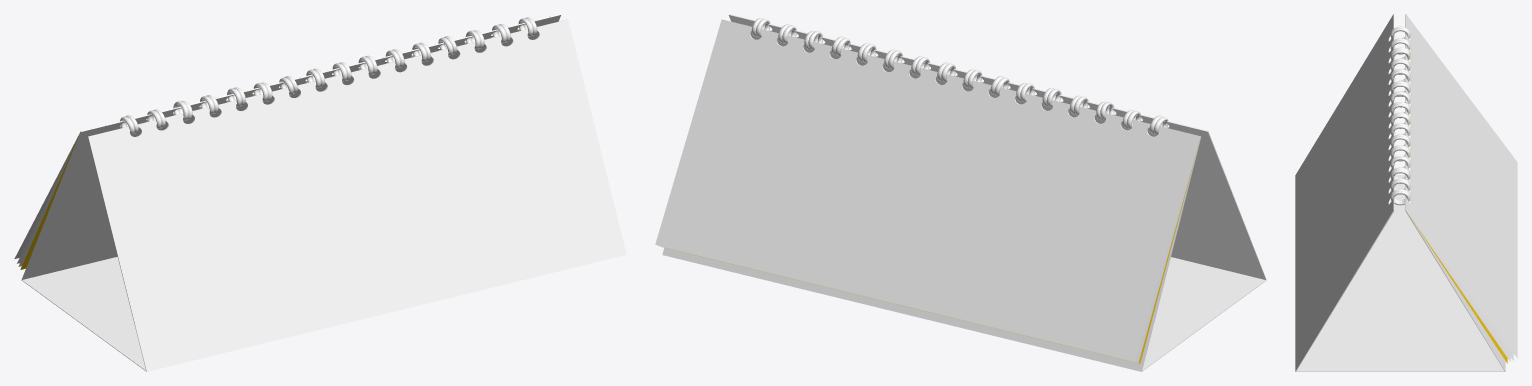
The model's file is level-calendar.glb.
3 renders of one model, left to right at view 1: azimuth 30°, elevation 25°; view 2: azimuth 150°, elevation 25°; view 3: azimuth 270°, elevation 25°, orthographic. The views are drawn at different scales.
Parts seen in each view (by area): view 1: iron-circle; view 2: iron-circle; view 3: iron-circle.
Part boxes in pixels (box(x1,y1,x2,y2)): iron-circle: box(14, 14, 626, 371); iron-circle: box(655, 14, 1266, 371); iron-circle: box(1295, 14, 1517, 371).
Bounding box in the file's own units: 0.2987 × 0.1189 × 0.1429.
6 materials, 1 textured.
